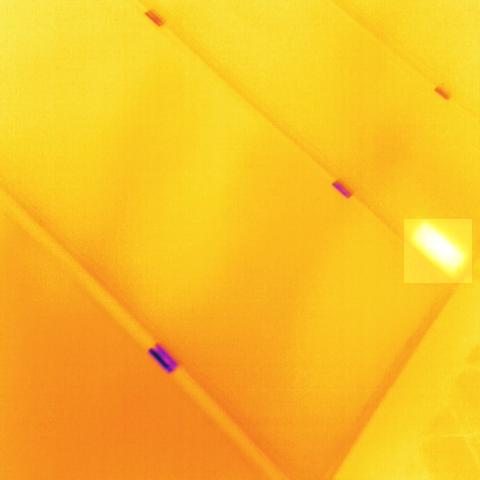fault: (404, 219, 472, 283)
